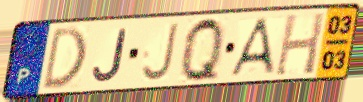A: (227, 16, 278, 79)
D: (40, 24, 89, 93)
H: (272, 10, 327, 78)
J: (139, 20, 181, 84), (91, 27, 130, 84)
Q: (180, 14, 226, 85)
